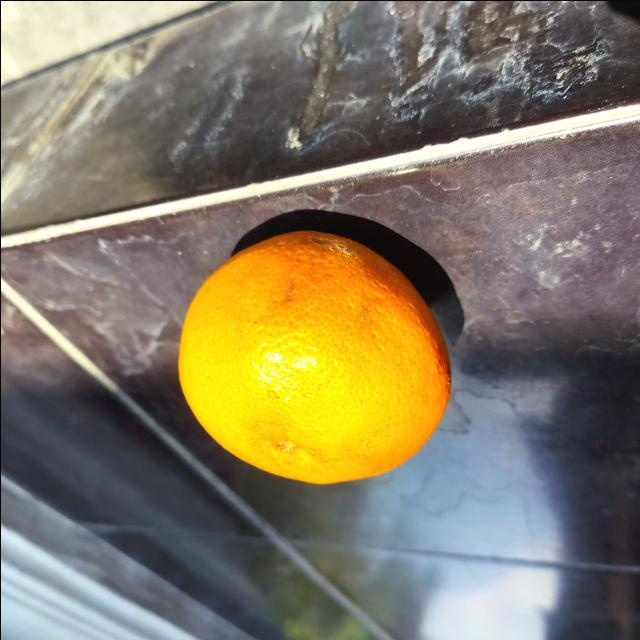agrume: (177, 229, 455, 485)
